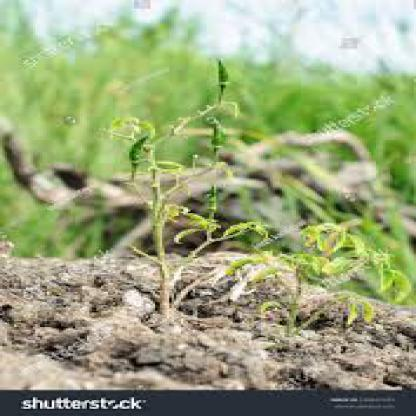Green Chilli: (212, 57, 235, 86), (209, 119, 228, 150), (130, 133, 151, 160), (209, 184, 219, 210)
